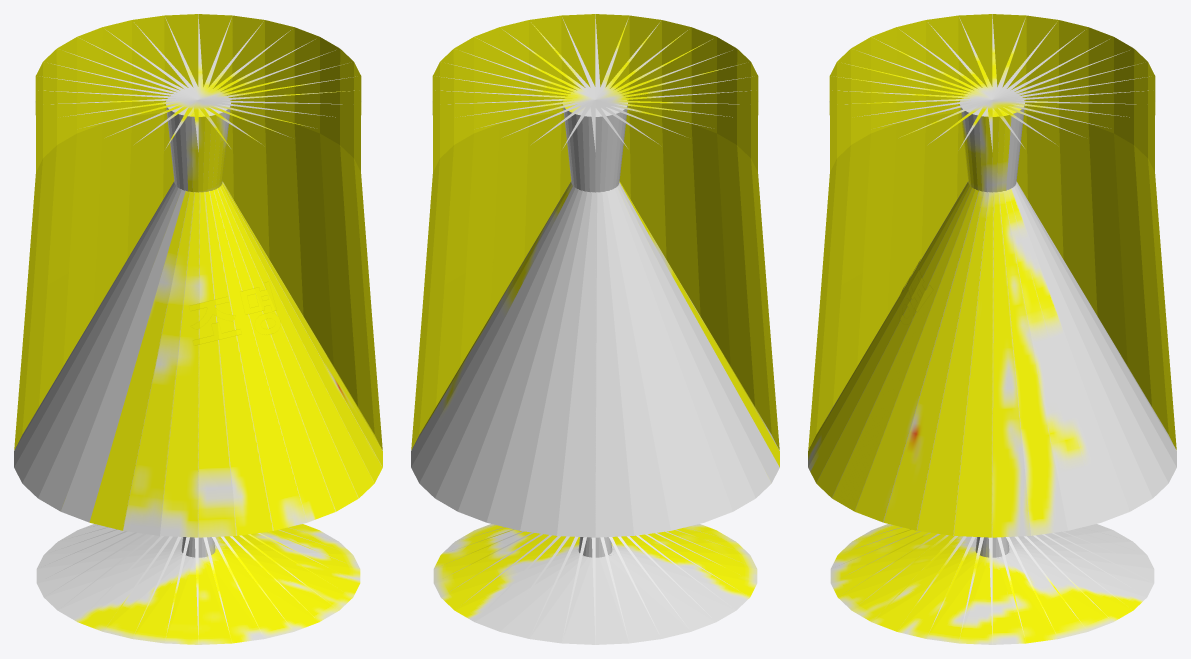
3 renders of one model, left to right at view 1: azimuth 30°, elevation 25°; view 2: azimuth 150°, elevation 25°; view 3: azimuth 270°, elevation 25°, orthographic.
Visible parts, largest first — view 1: algeomath, 스티커; view 2: algeomath; view 3: algeomath, 스티커.
Part boxes in pixels (x1,y1,x2,y2): algeomath: [14, 14, 382, 644]; 스티커: [189, 281, 280, 345]; algeomath: [411, 14, 779, 644]; algeomath: [808, 14, 1176, 644]; 스티커: [899, 259, 933, 324].
Bounding box in the file's own units: 1.83 × 2.68 × 1.82.
2 materials, 2 textured.
